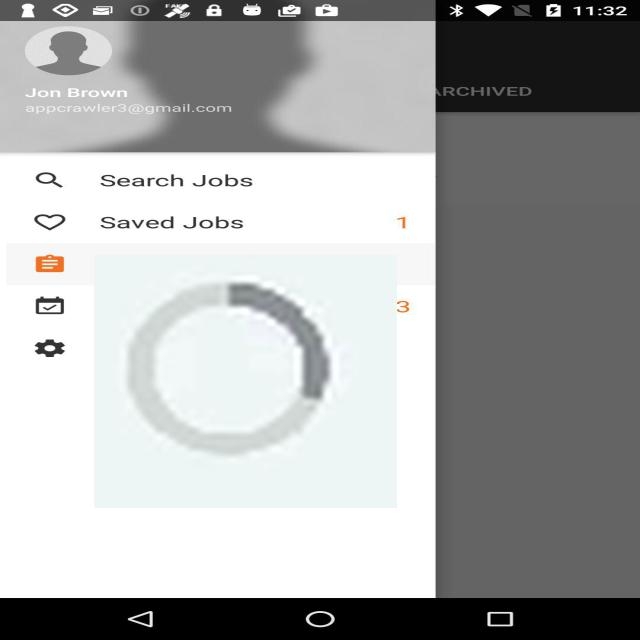misdirection: (94, 255, 397, 508)
